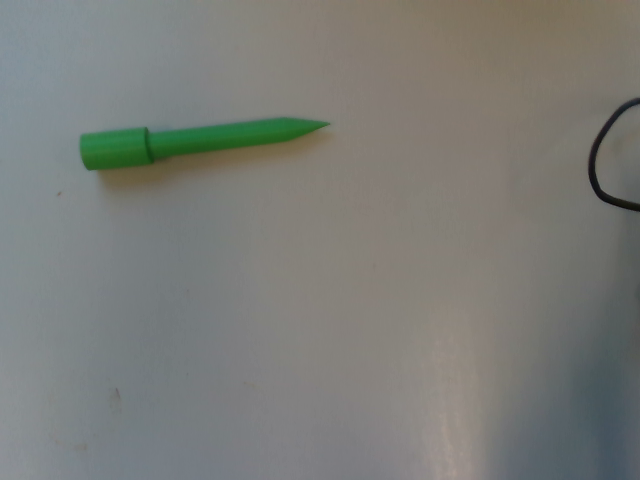Probe: (76, 107, 342, 176)
